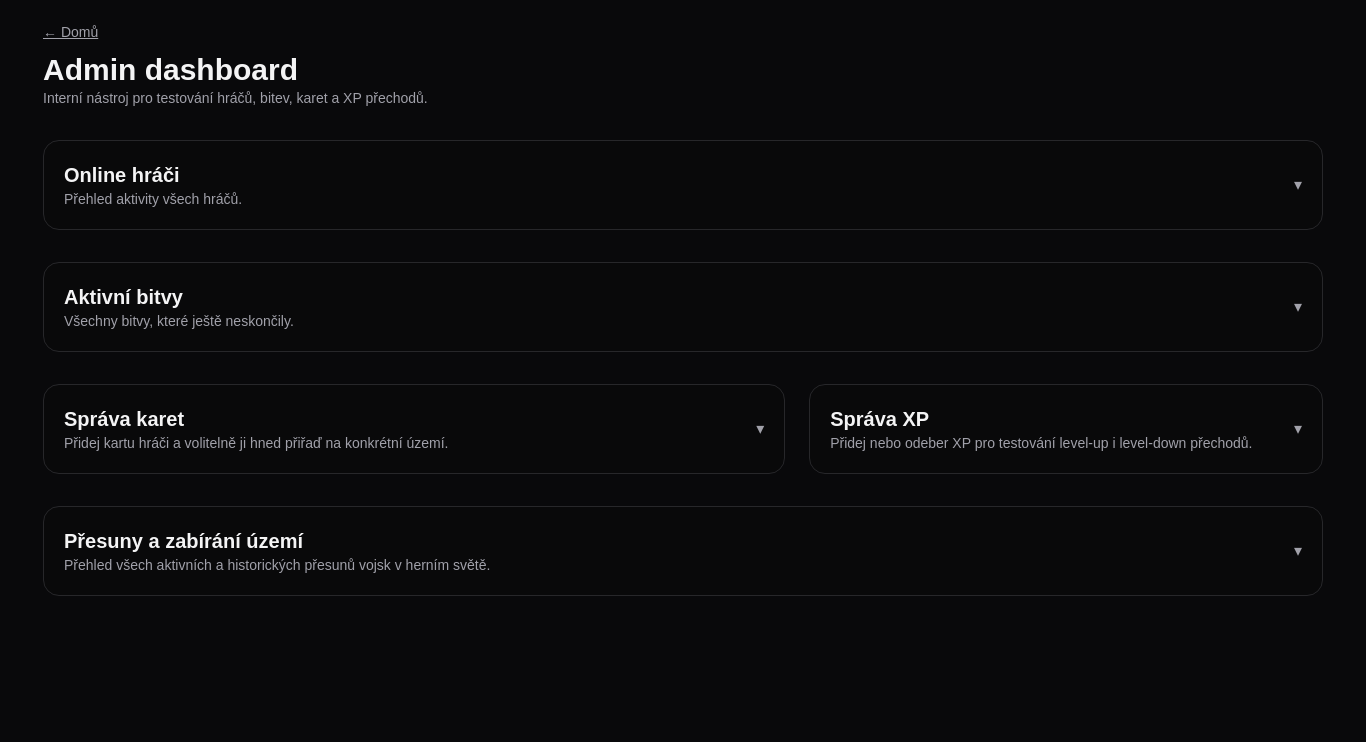
Test: AdminPage › renders online players and active battles for an admin
Expected: the heading "Online hráči" is shown, [64,164,180,186]
Click the button "Online hráči Přehled aktivity všech hráčů. ▾" at (122, 175), box [64,161,1302,209]
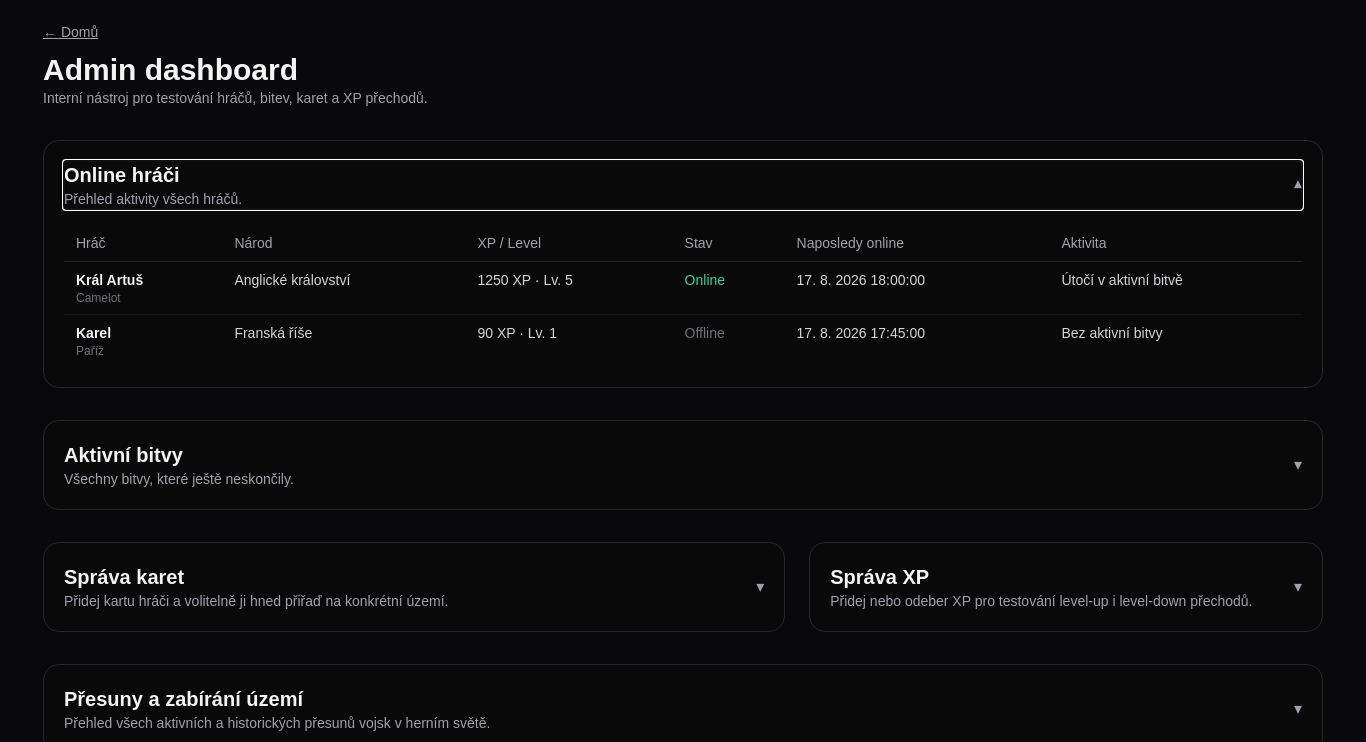
Expected: the heading "Aktivní bitvy" is shown, [64,444,183,466]
Expected: the text "Král Artuš" is shown, [76,272,143,288]
Expected: the text "Karel" is shown, [76,325,111,341]
Click the button "Aktivní bitvy Všechny bitvy, které ještě neskončily. ▾" at (123, 455), box [64,441,1302,489]
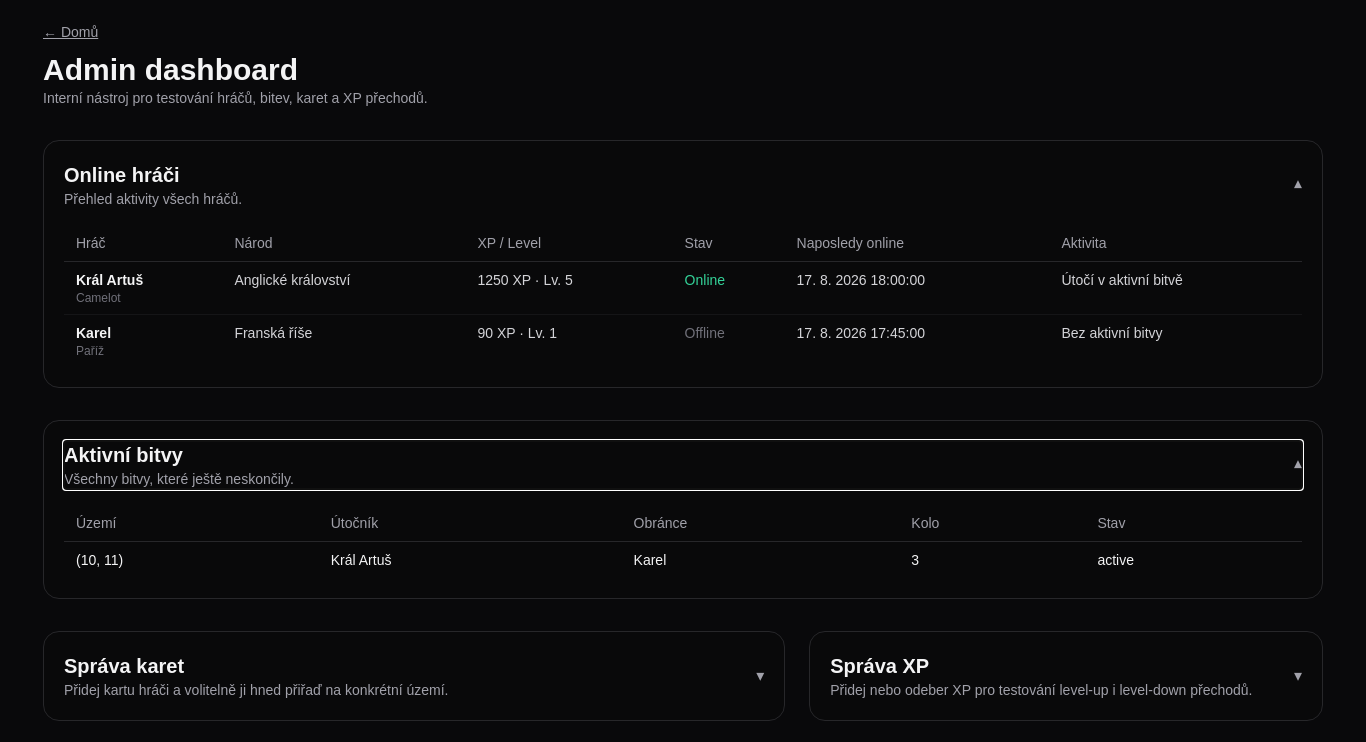
Expected: the text "(10, 11)" is shown, [64,542,319,578]
Click the button "Správa karet" at (124, 666), box [64,652,764,700]
(page scrolled)
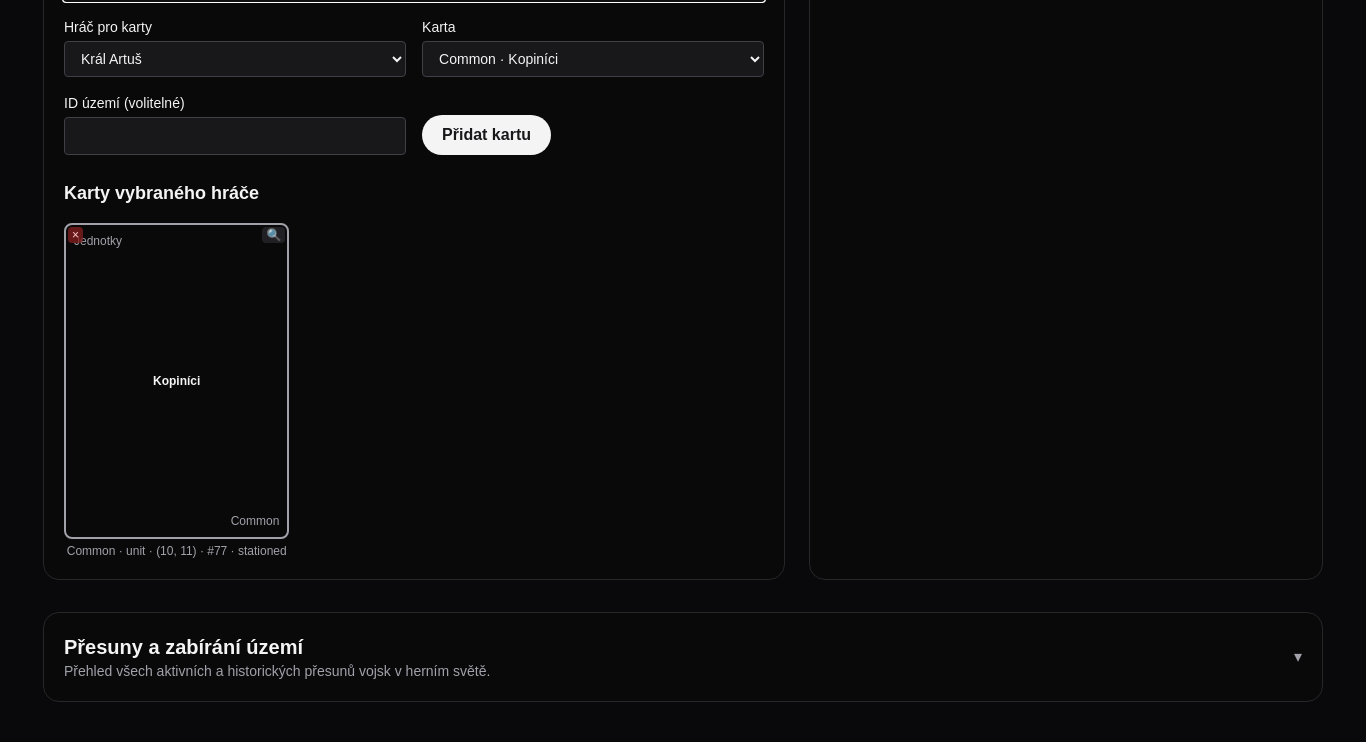
Expected: the text "Kopiníci" is shown, [153,374,200,388]
